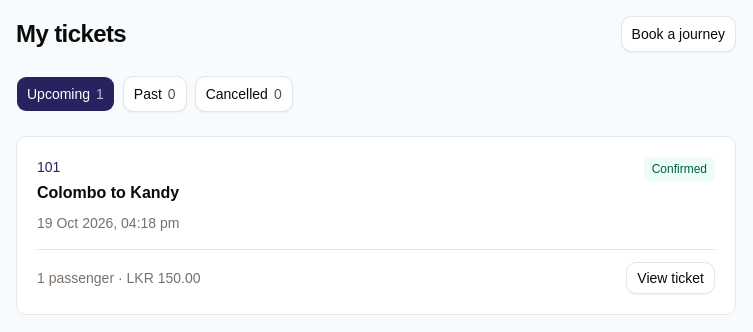
MyTicketsPage › shows an empty message for a group that has no bookings
expect the heading "Colombo to Kandy" is shown: met, box [37,181,179,205]
Click the button "Past 0" at (155, 94), box [123,76,187,112]
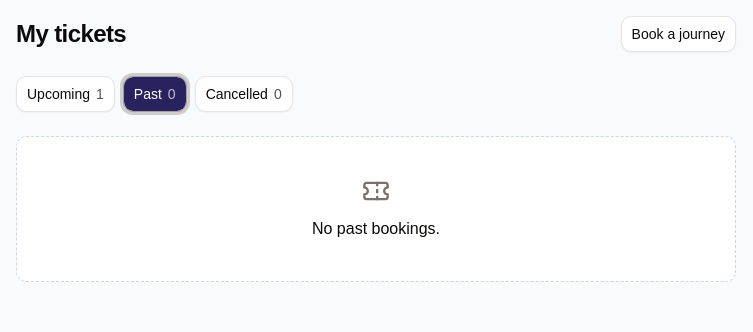
expect the text "No past bookings." is shown: met, box [312,220,440,237]
